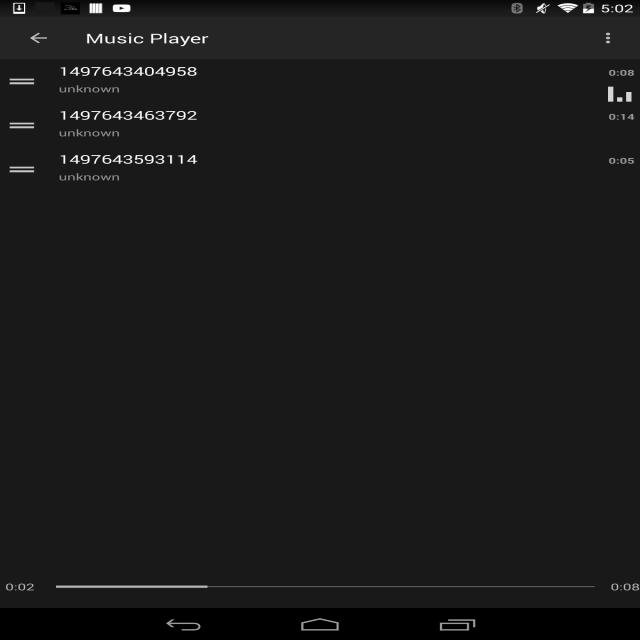ImageButton: (9, 17, 68, 59)
ImageView: (5, 63, 48, 96), (5, 107, 48, 140), (5, 151, 48, 184), (589, 22, 631, 54), (600, 77, 640, 103)
SeekBar: (40, 565, 611, 608)
TextView: (54, 59, 604, 82), (54, 104, 604, 126), (54, 148, 604, 170), (53, 82, 600, 99), (53, 170, 600, 187), (53, 126, 600, 142), (85, 29, 209, 47), (0, 577, 40, 596), (603, 64, 640, 81), (603, 108, 640, 125), (603, 152, 640, 169), (610, 580, 640, 592)
